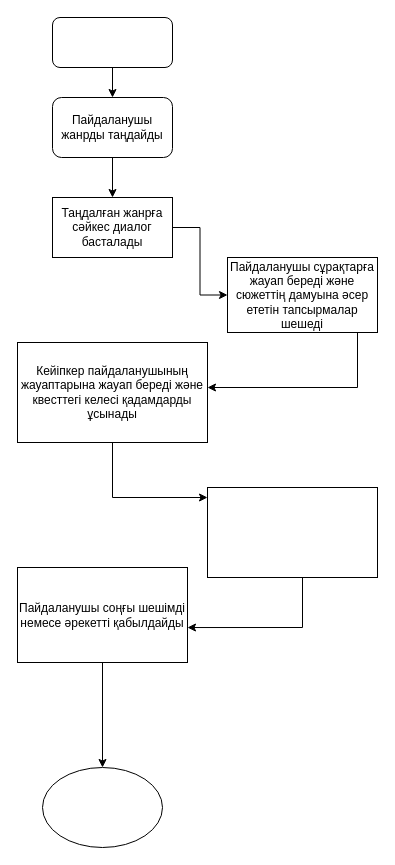
Image size: 395x865. Some labels were removed from this diagram. Here are the shapes that lost their labels. From the top down, the centre of each, then its label:
point 112,42: Пайдаланушы квестті бастады
point 292,532: Диалогтың жалғасы, қолданушы мен кейіпкер қосымша оқиғаларды талқылайды
point 102,807: Квесттің аяқталуы және жаңа квест бастау мүмкіндігі
